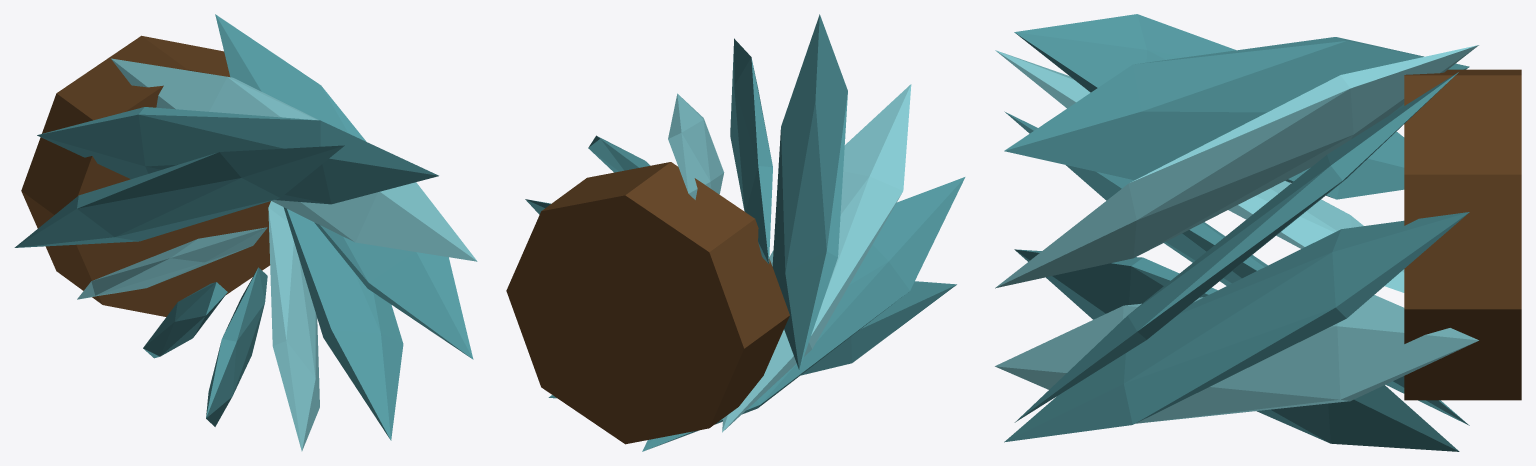
Rendered from 3_growing.obj.
The picture shows the model from 3 angles, left to right: view 1: azimuth 30°, elevation 25°; view 2: azimuth 150°, elevation 25°; view 3: azimuth 270°, elevation 25°; orthographic projection. The views are drawn at different scales.
Parts seen in each view (by area): view 1: ranarr_3_growing; view 2: ranarr_3_growing; view 3: ranarr_3_growing.
Boxes of the visible parts, x1,y1,x2,y2 form: ranarr_3_growing: (14,14,477,451); ranarr_3_growing: (506,14,965,451); ranarr_3_growing: (995,14,1521,451).
Size of the model in its own units: 0.1511 by 0.1483 by 0.1797.
